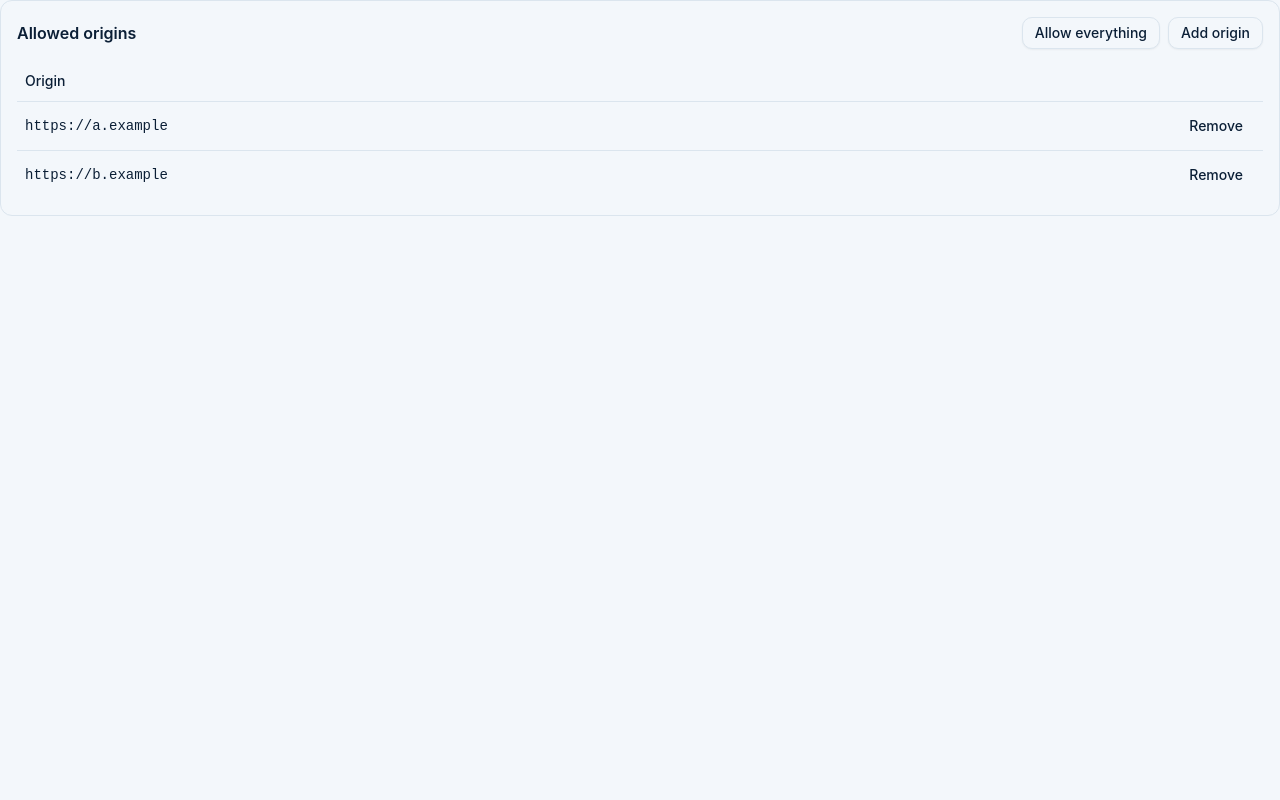
Test case: OriginsSection › refuses an origin already listed, or a blank one
Click the button "Add origin" at (1216,33), box [1168,17,1263,49]
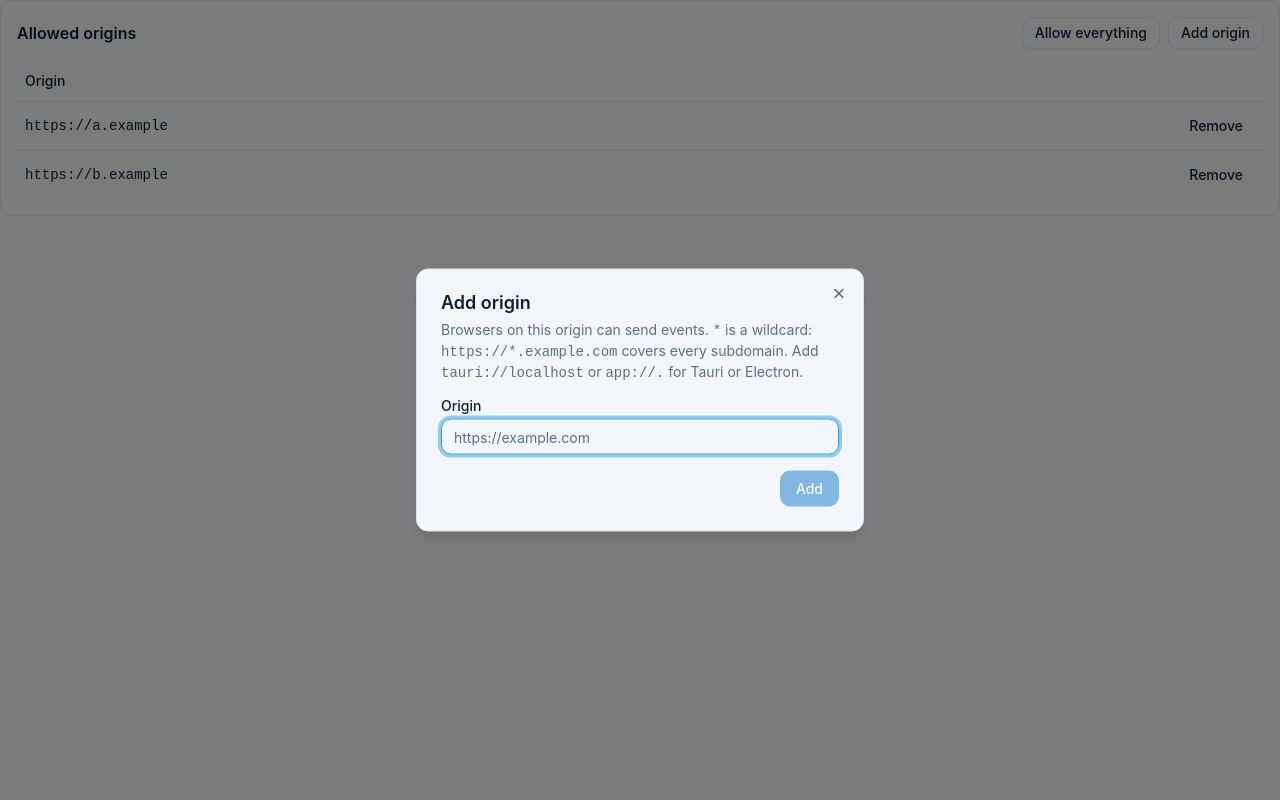
Expected: the button "Add" is disabled, [780,470,839,506]
Type "https://a.example" into the field labelled "Origin" at (640,436), box [441,418,839,454]
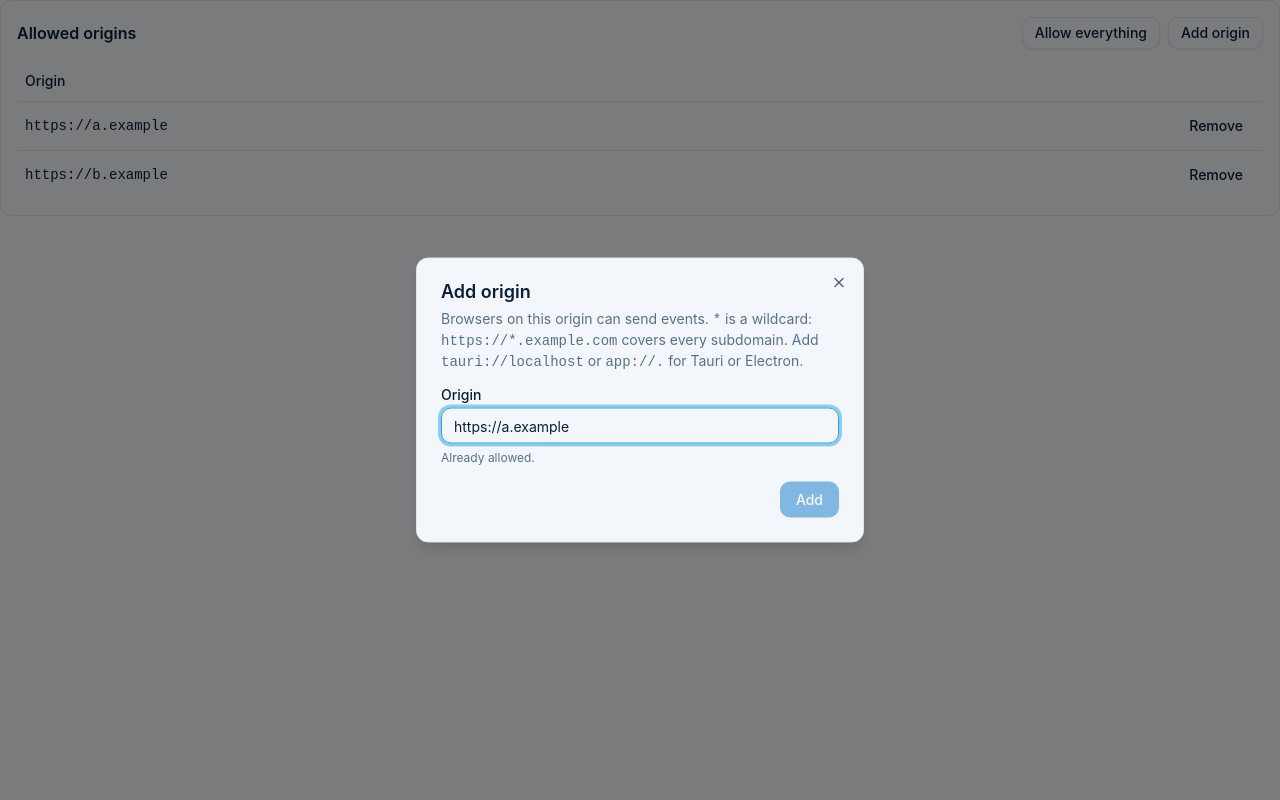
Expected: the button "Add" is disabled, [780,482,839,518]
Expected: the text "Already allowed." is shown, [441,450,535,464]
